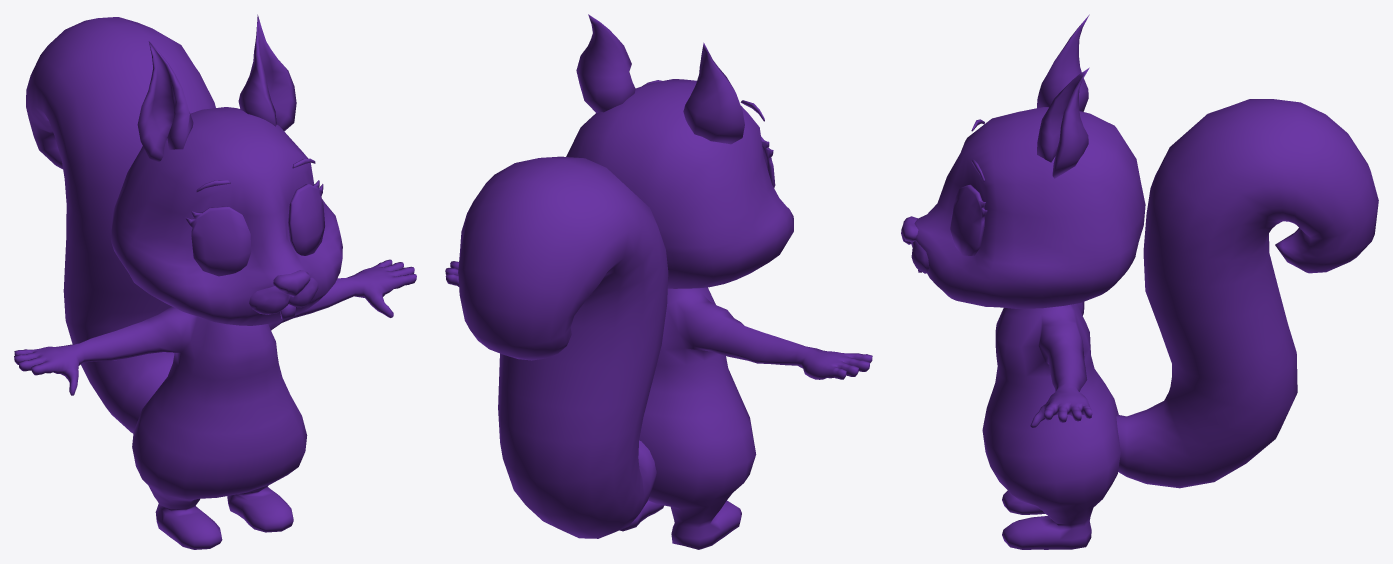
Rendered from esquilaRoxa.fbx.
The picture shows the model from 3 angles, left to right: view 1: azimuth 30°, elevation 25°; view 2: azimuth 150°, elevation 25°; view 3: azimuth 270°, elevation 25°; orthographic projection. The views are drawn at different scales.
Parts seen in each view (by area): view 1: Player; view 2: Player; view 3: Player.
Boxes of the visible parts, left/top/right/bottom form: Player: left=14, top=14, right=416, bottom=549; Player: left=445, top=14, right=872, bottom=549; Player: left=901, top=14, right=1378, bottom=549.
Bounding box in the file's own units: 78.81 × 91.85 × 82.37.
